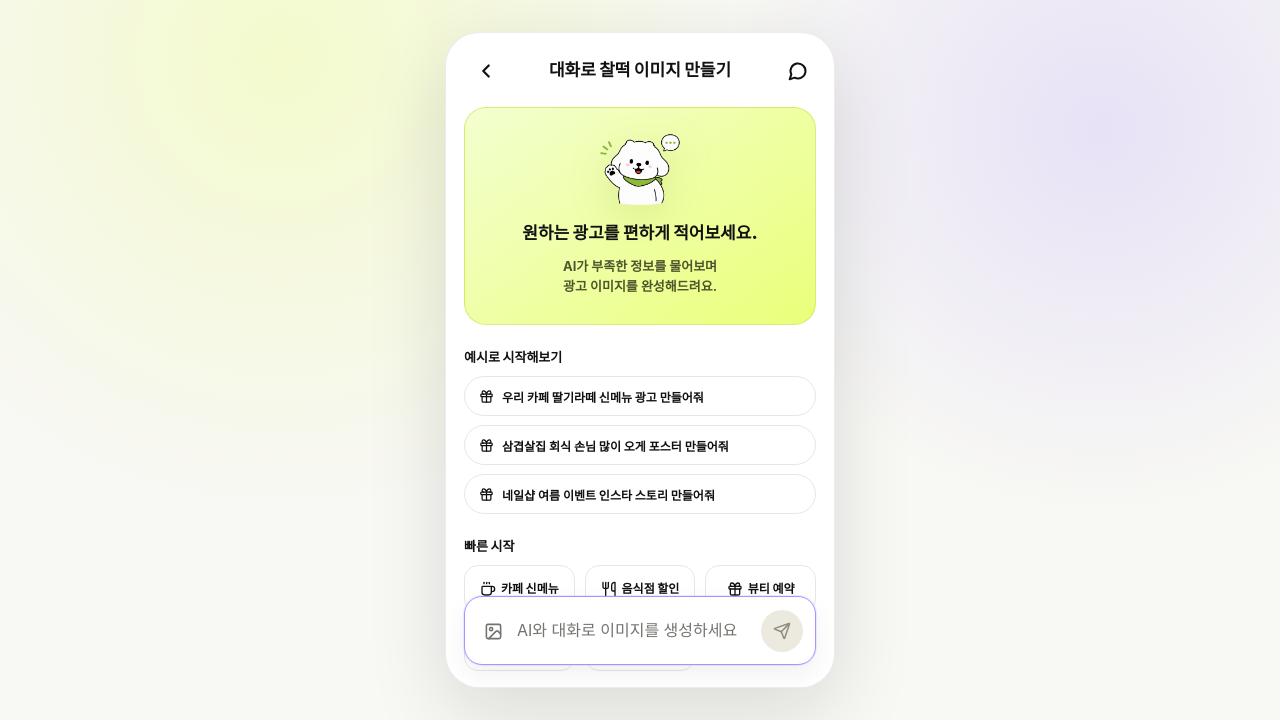
Test: ChatGenerateClient › keeps backend analysis pending inside the chat timeline without the review screen
Type "우리 카페 딸기라떼 신메뉴 광고 만들어줘" into the text box named "광고 요청 입력".
click(635, 630); type("우리 카페 딸기라떼 신메뉴 광고 만들어줘")  # box [517, 609, 753, 652]
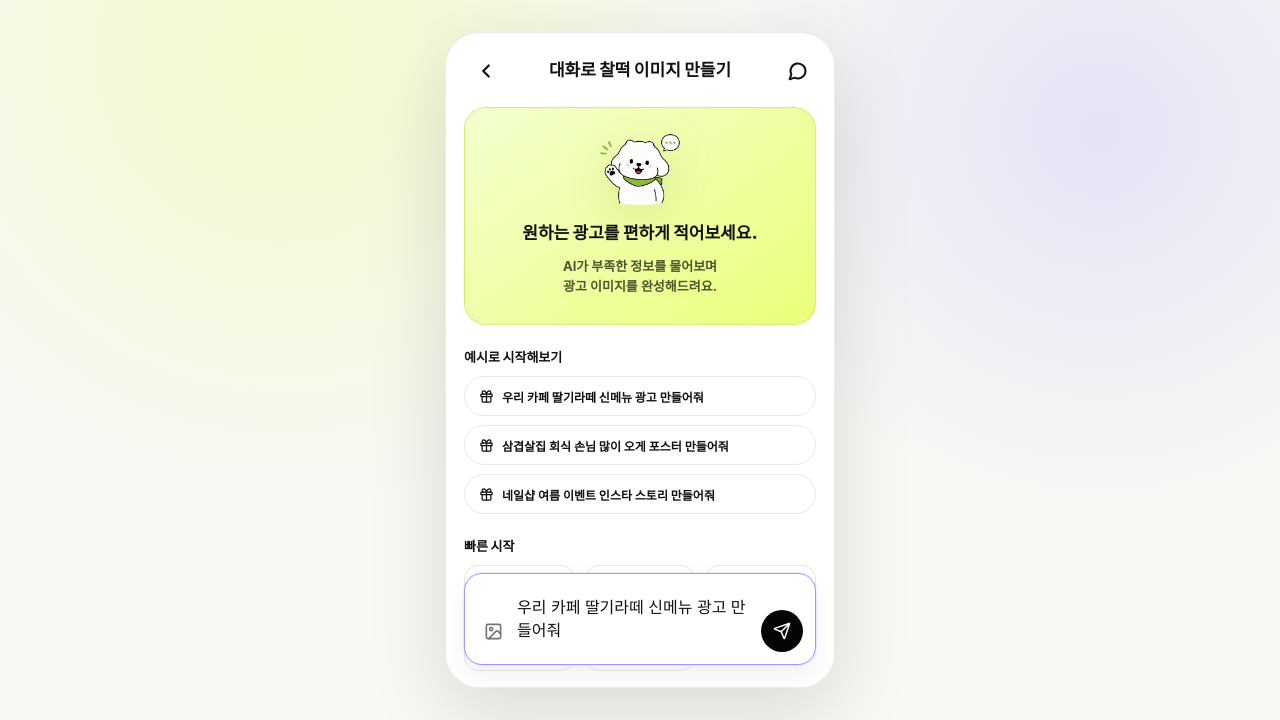
Click the button named "요청 보내기".
click(782, 631)  # box [761, 610, 803, 652]
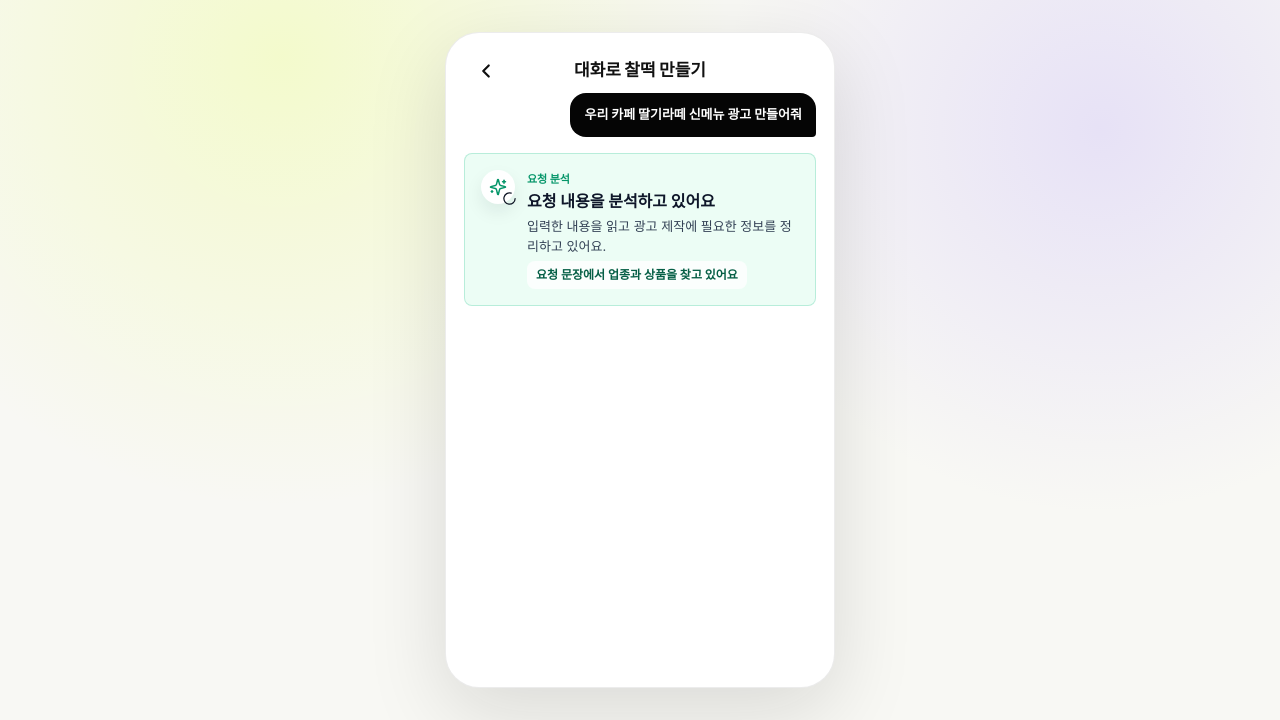
Expected: the heading "대화로 찰떡 만들기" is shown, [574, 60, 706, 80]
Expected: the text "요청 내용을 분석하고 있어요" is shown, [527, 190, 715, 210]
